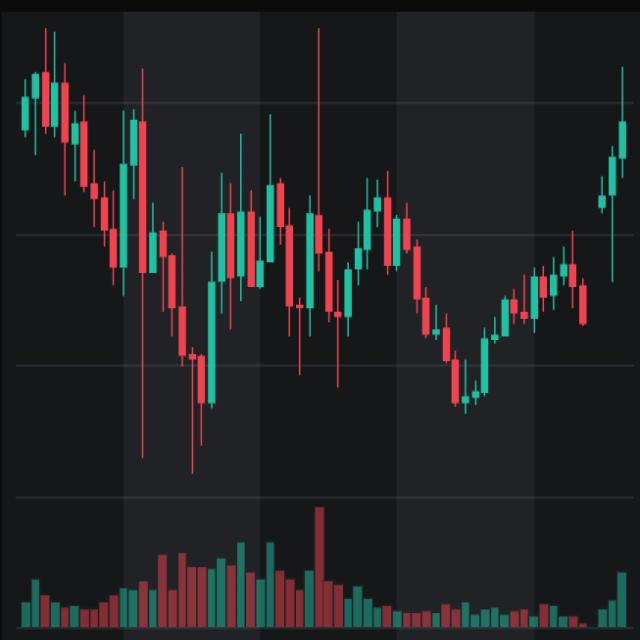Channel-down: (5, 18, 268, 500)
